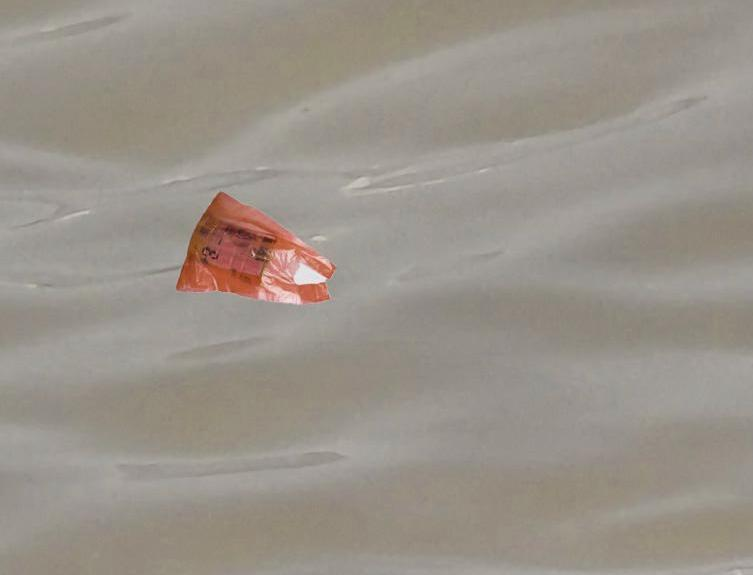Trash: (176, 190, 335, 302)
